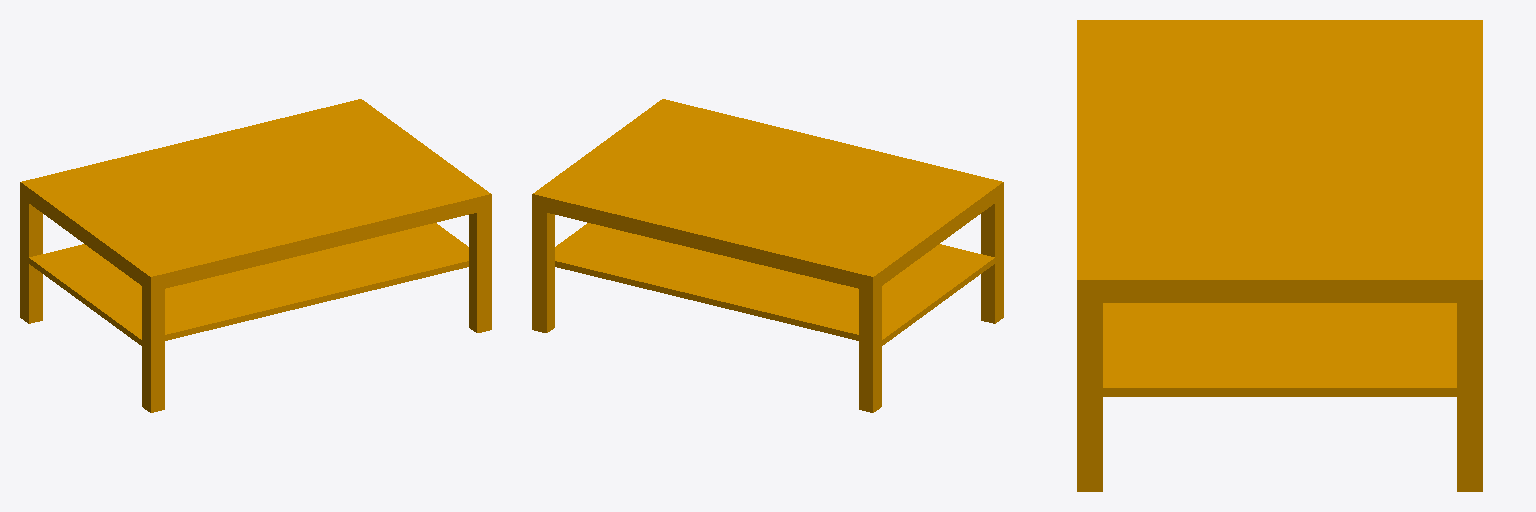
URDF robot description (coffee_table_01):
<?xml version="1.0" ?>
<robot name="coffee_table_01">
  <link name="baseLink">
    <contact>
      <lateral_friction value="1.0"/>
      <inertia_scaling value="3.0"/>
    </contact>
    <inertial>
      <origin rpy="0 0 0" xyz="0.000 -0.000 -0.172"/>
       <mass value=".1"/>
       <inertia ixx="1" ixy="0.0" ixz="0.0" iyy="1" iyz="0.0" izz="1"/>
    </inertial>
    <visual>
      <origin rpy="0 0 0" xyz="0 0 0"/>
      <geometry>
        <mesh filename="visual.obj" scale="1.000 1.000 1.000"/>
      </geometry>
      <material name="texture_material">
            <texture filename="texture.png"/>
      </material>
    </visual>
    <collision>
      <origin rpy="0 0 0" xyz="0 0 0"/>
      <geometry>
        <mesh filename="visual.obj" scale="1.000 1.000 1.000"/>
      </geometry>
    </collision>
  </link>
</robot>
        

--- Facts derived from the render (not from the file) ---
The picture shows the robot from 3 angles, left to right: view 1: azimuth 30°, elevation 25°; view 2: azimuth 150°, elevation 25°; view 3: azimuth 270°, elevation 25°; orthographic projection.
Robot: coffee_table_01 — 1 links, 0 joints (none); root link baseLink; default pose: all joints at 0.
Visible links, largest first — view 1: baseLink; view 2: baseLink; view 3: baseLink.
Link boxes in pixels (x1,y1,x2,y2): baseLink: [20, 99, 491, 412]; baseLink: [532, 99, 1003, 412]; baseLink: [1077, 20, 1482, 491].
Bounding box of the posed robot: 0.9 × 0.5949 × 0.3432 m (x, y, z).
1 mesh visuals loaded from 1 distinct referenced files (1 OBJ).
